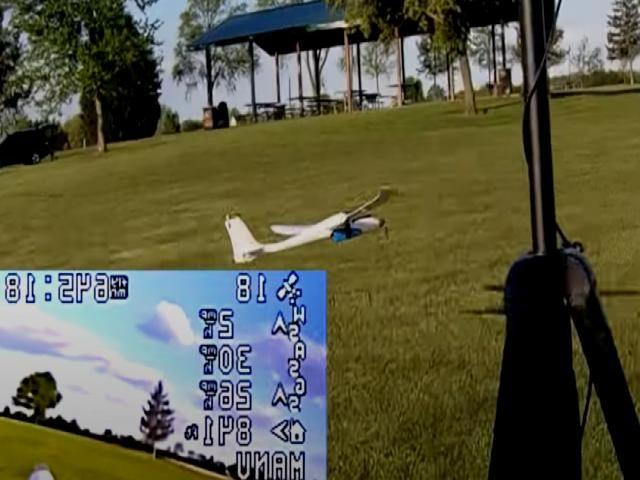iha: (226, 186, 394, 264)
